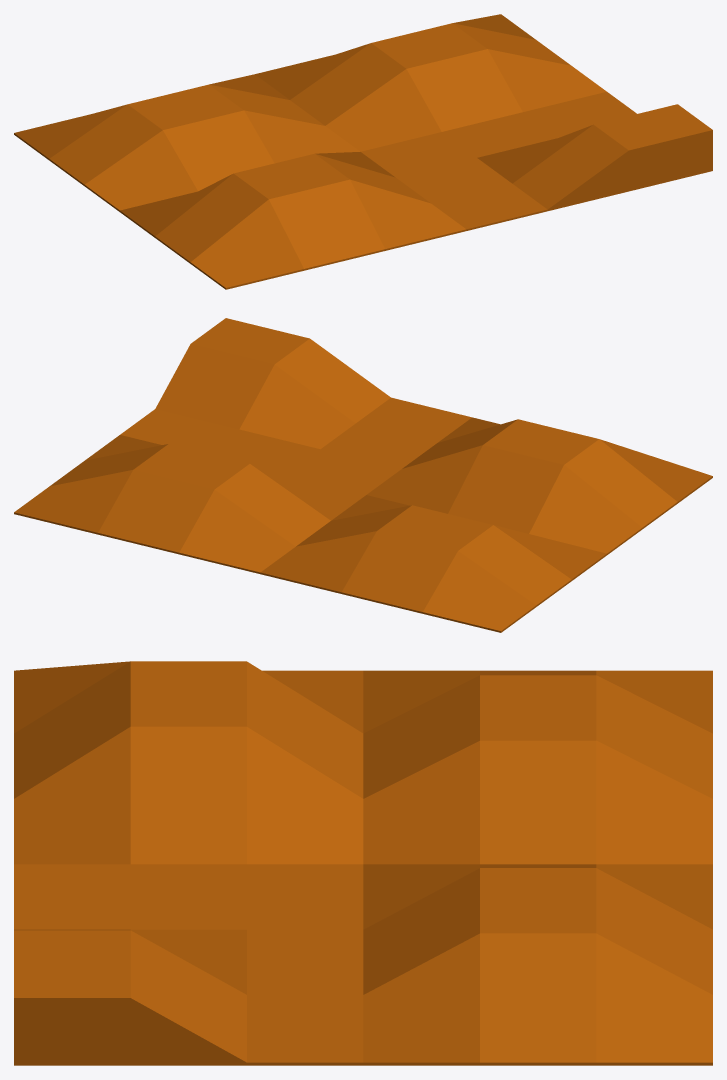
File: floor_basic.glb
The picture shows the model from 3 angles, top to bottom: view 1: azimuth 30°, elevation 25°; view 2: azimuth 150°, elevation 25°; view 3: azimuth 270°, elevation 25°; orthographic projection. The views are drawn at different scales.
Parts seen in each view (by area): view 1: Cube; view 2: Cube; view 3: Cube.
Boxes of the visible parts, x1,y1,x2,y2 form: Cube: [14, 14, 712, 289]; Cube: [14, 318, 712, 632]; Cube: [14, 661, 712, 1065].
Bounding box in the file's own units: 44.38 × 3.97 × 33.45.
